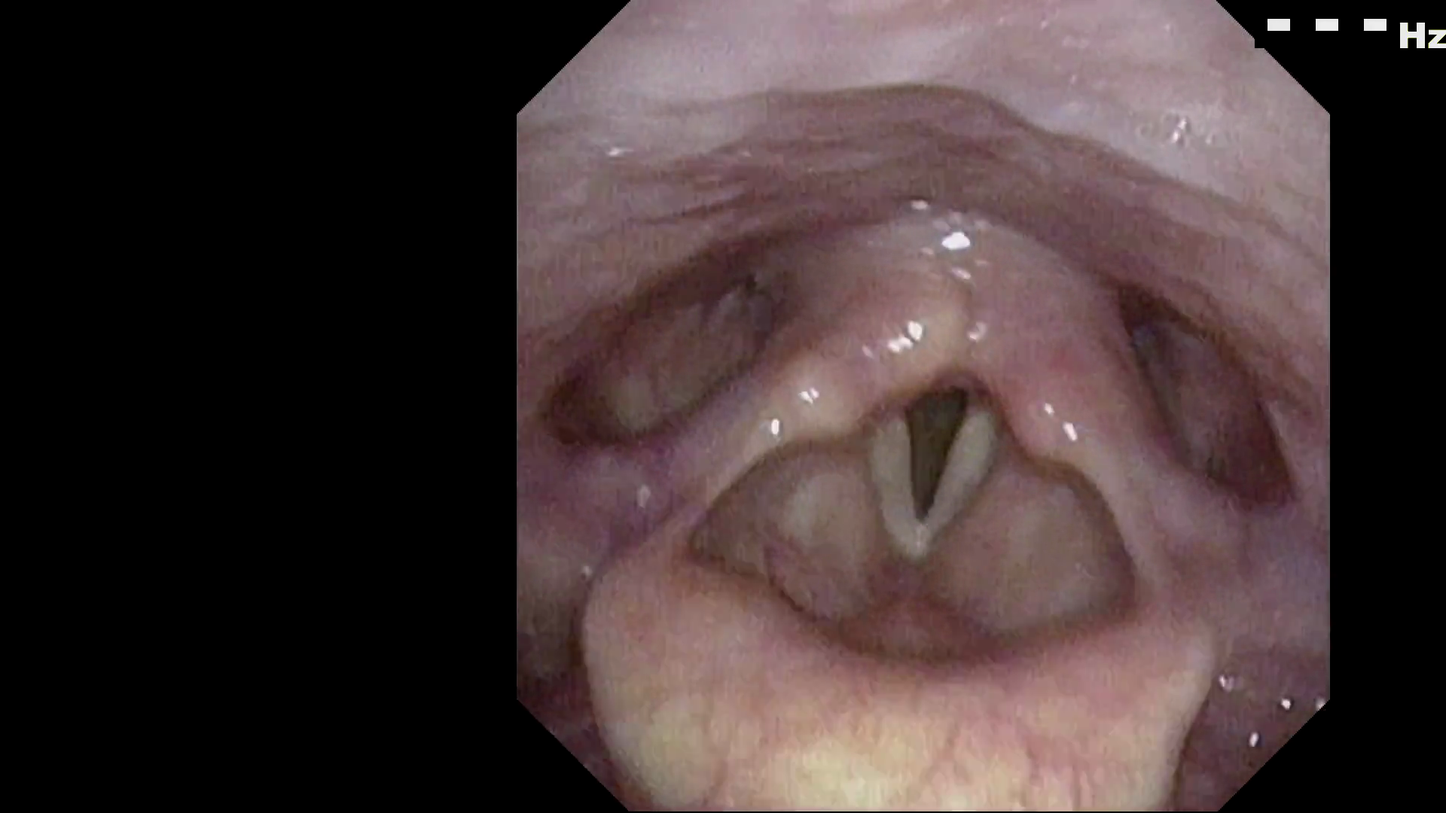epiglottis: (569, 507, 1216, 745)
trachea: (845, 341, 1024, 566)
